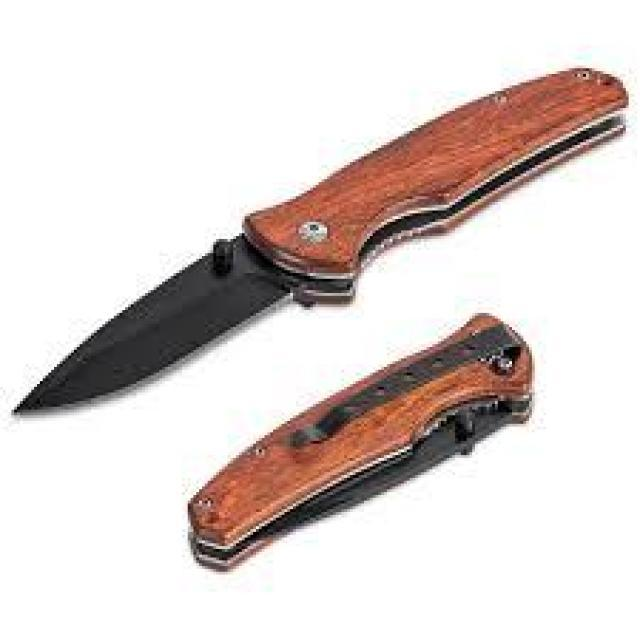Knife: (4, 44, 640, 441)
